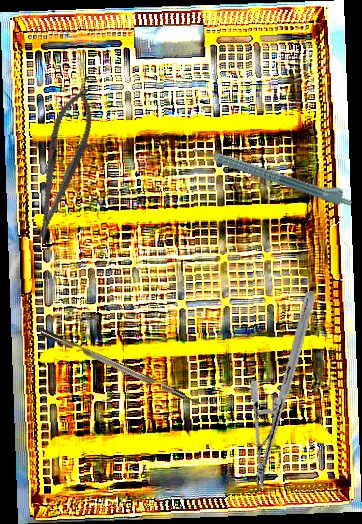Chopper: (40, 320, 212, 412)
Handpiece: (192, 137, 356, 210)
Needle Holder: (213, 290, 357, 489), (20, 82, 103, 249)
